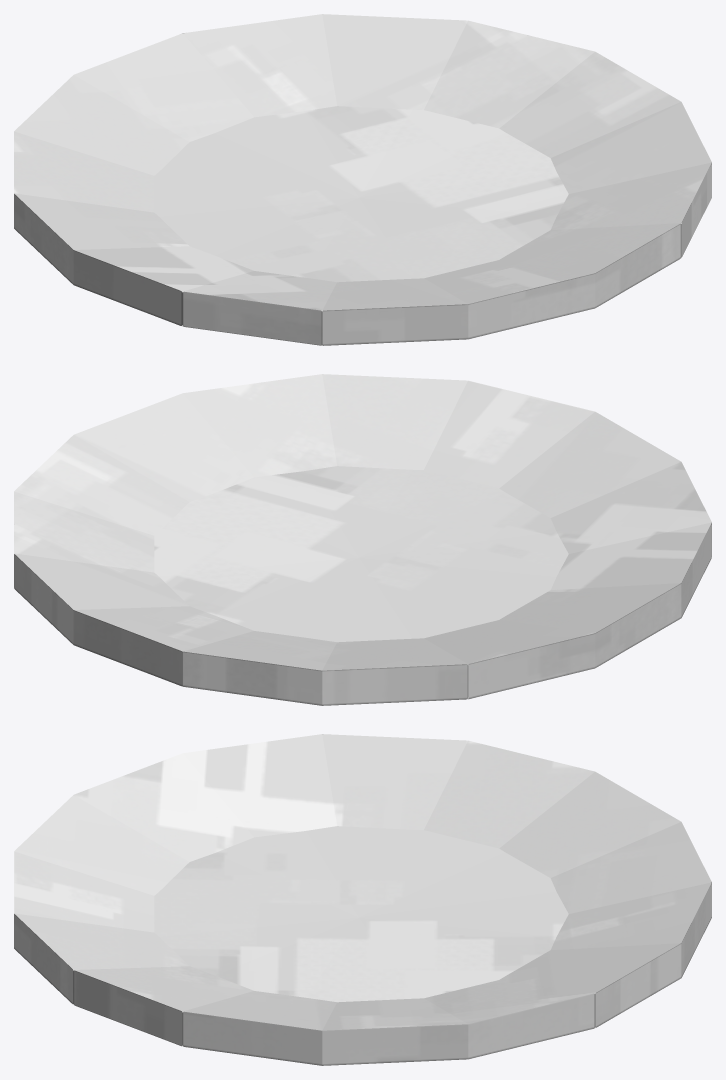
The model's file is assiete.fbx.
The picture shows the model from 3 angles, top to bottom: view 1: azimuth 30°, elevation 25°; view 2: azimuth 150°, elevation 25°; view 3: azimuth 270°, elevation 25°; orthographic projection.
Visible parts, largest first — view 1: cylinder, cylinder_1; view 2: cylinder, cylinder_1; view 3: cylinder, cylinder_1.
Boxes of the visible parts, x1,y1,x2,y2 form: cylinder: [14, 14, 711, 345]; cylinder_1: [154, 106, 568, 282]; cylinder: [14, 374, 711, 705]; cylinder_1: [154, 466, 568, 642]; cylinder: [14, 734, 711, 1065]; cylinder_1: [154, 826, 568, 1002].
Size of the model in its own units: 102 by 12.5 by 101.
1 material, 1 textured.
